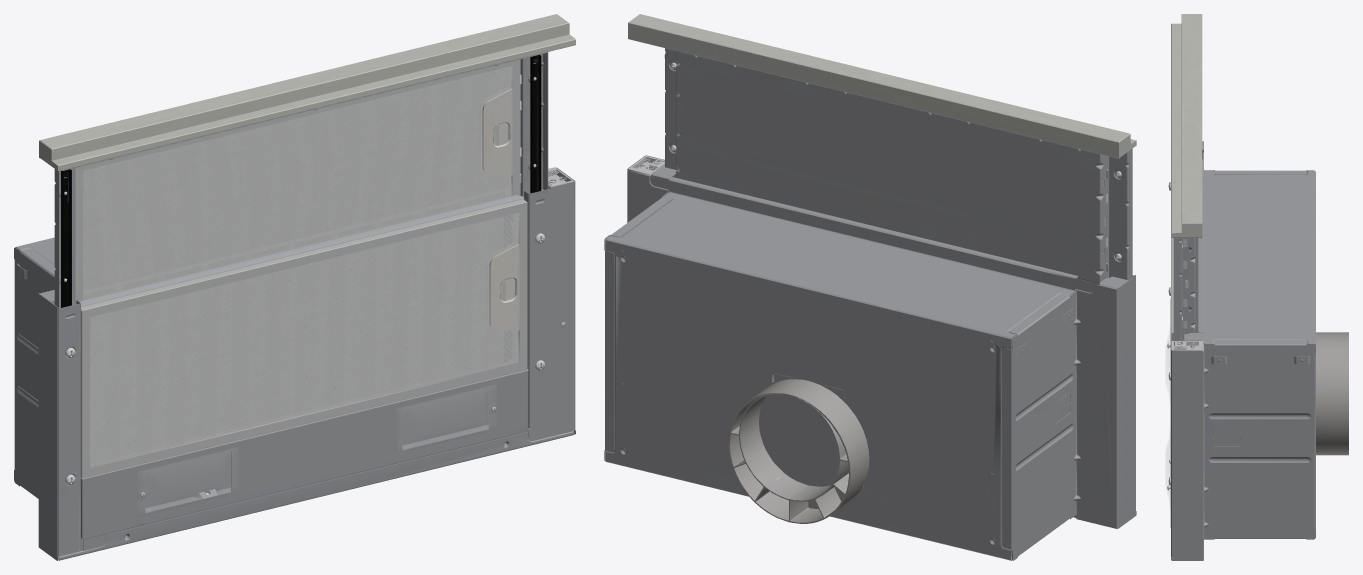
Rendered from Utdrag10389142-scene-512.glb.
3 renders of one model, left to right at view 1: azimuth 30°, elevation 25°; view 2: azimuth 150°, elevation 25°; view 3: azimuth 270°, elevation 25°, orthographic. The views are drawn at different scales.
Parts seen in each view (by area): view 1: Utdrag_Base, Utdrag_Drawer; view 2: Utdrag_Base, Utdrag_Drawer; view 3: Utdrag_Base, Utdrag_Drawer.
Boxes of the visible parts, x1=… form: Utdrag_Base: x1=14, y1=190, x2=575, y2=560; Utdrag_Drawer: x1=38, y1=14, x2=575, y2=316; Utdrag_Base: x1=604, y1=176, x2=1136, y2=560; Utdrag_Drawer: x1=627, y1=14, x2=1136, y2=296; Utdrag_Base: x1=1166, y1=150, x2=1348, y2=560; Utdrag_Drawer: x1=1171, y1=14, x2=1203, y2=358.
Bounding box in the file's own units: 0.5985 × 0.45 × 0.2221.
2 materials, 2 textured.
